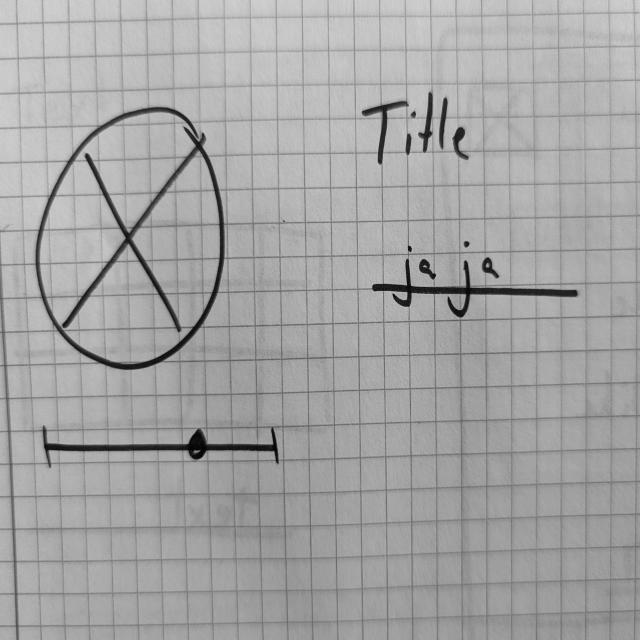image: (37, 103, 231, 371)
input: (368, 239, 582, 325)
label: (360, 89, 476, 174)
slider: (40, 419, 288, 471)
